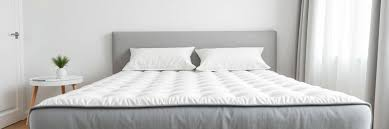bed-matress: (28, 60, 372, 129)
